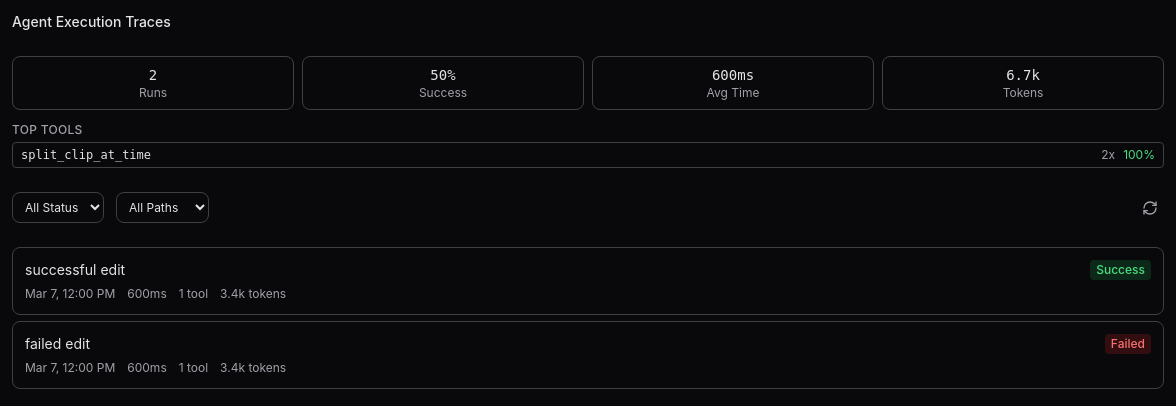
Test: DeveloperSettings › should filter traces by success status
Check: the text "successful edit" is shown, box [25, 260, 125, 280]
Check: the text "failed edit" is shown, box [25, 334, 90, 354]
// Filter to failed only
Select "Failed" in the dropdown named "status filter" at (58, 208), box [12, 192, 104, 223]
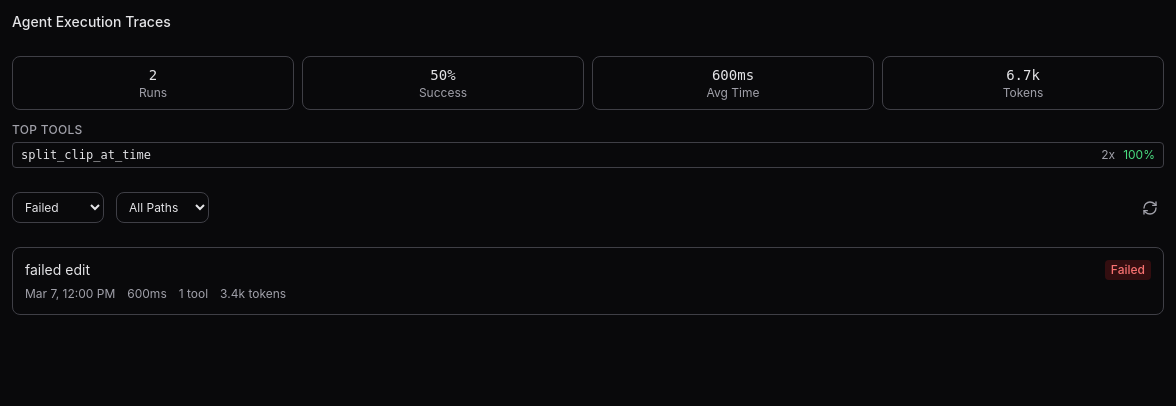
Check: the text "failed edit" is shown, box [25, 260, 90, 280]
Check: the button "successful edit" is gone
